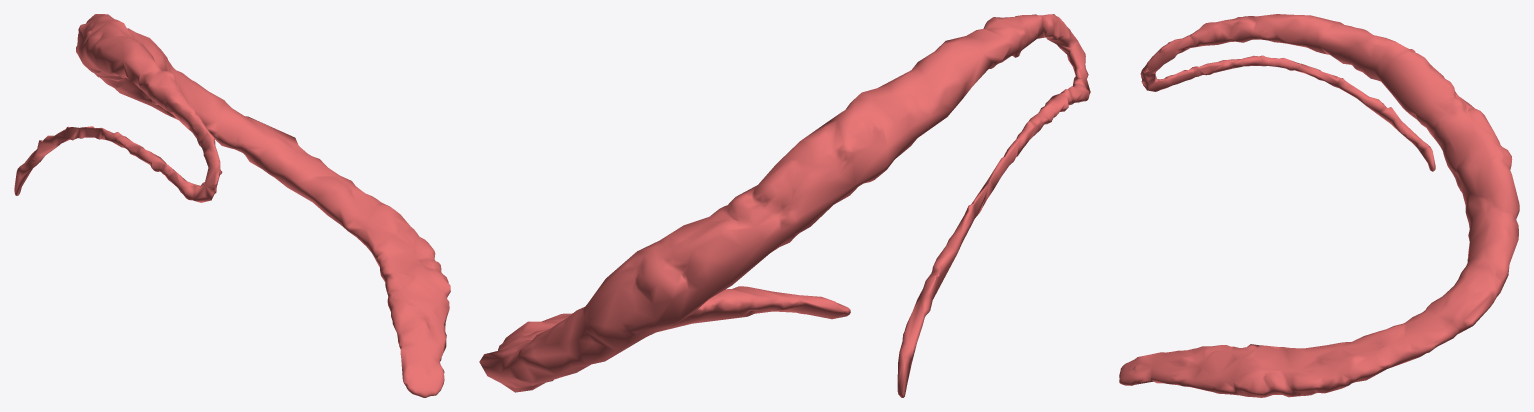
Rendered from Choroid_plexus_left.glb.
3 renders of one model, left to right at view 1: azimuth 30°, elevation 25°; view 2: azimuth 150°, elevation 25°; view 3: azimuth 270°, elevation 25°, orthographic. The views are drawn at different scales.
Visible parts, largest first — view 1: Choroid_plexus.l_grp1.107; view 2: Choroid_plexus.l_grp1.107; view 3: Choroid_plexus.l_grp1.107.
Boxes of the visible parts, bbox=[...] form: Choroid_plexus.l_grp1.107: bbox=[14, 14, 450, 397]; Choroid_plexus.l_grp1.107: bbox=[479, 14, 1090, 397]; Choroid_plexus.l_grp1.107: bbox=[1119, 14, 1519, 397].
Bounding box in the file's own units: 0.0363 × 0.0329 × 0.0421.
